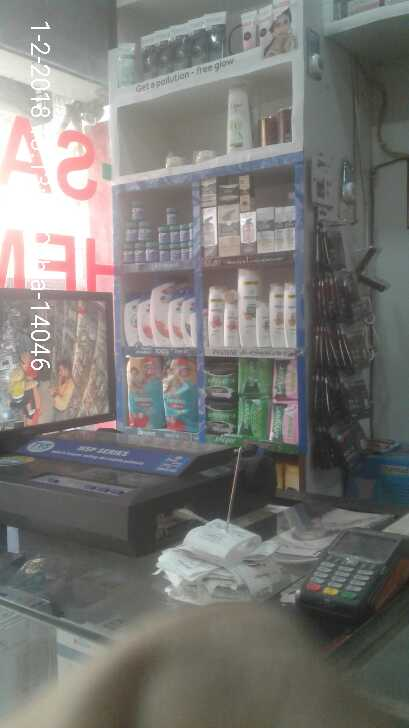vicks: (120, 197, 195, 261)
